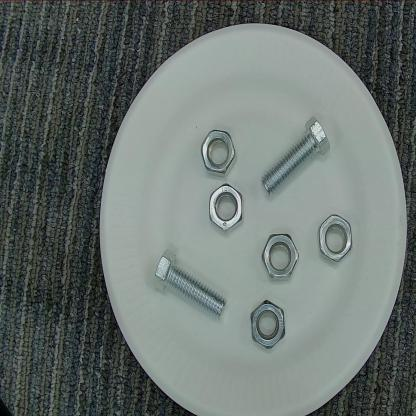FOD: (259, 117, 334, 200), (149, 250, 231, 324), (197, 125, 238, 181), (248, 300, 292, 352), (205, 182, 248, 235), (315, 212, 358, 263), (259, 232, 300, 285)
